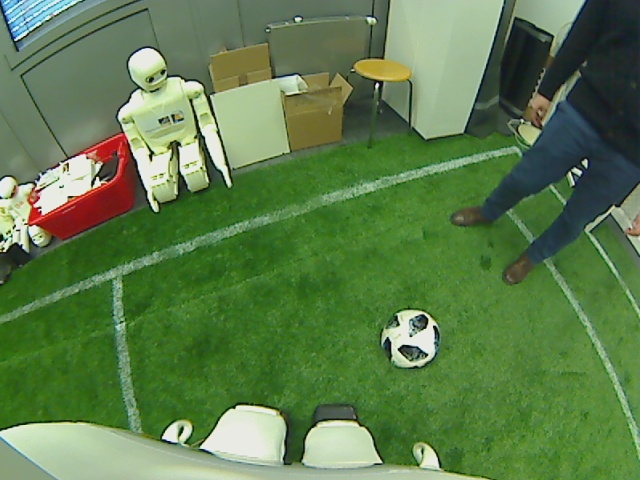ball: (377, 309, 442, 369)
